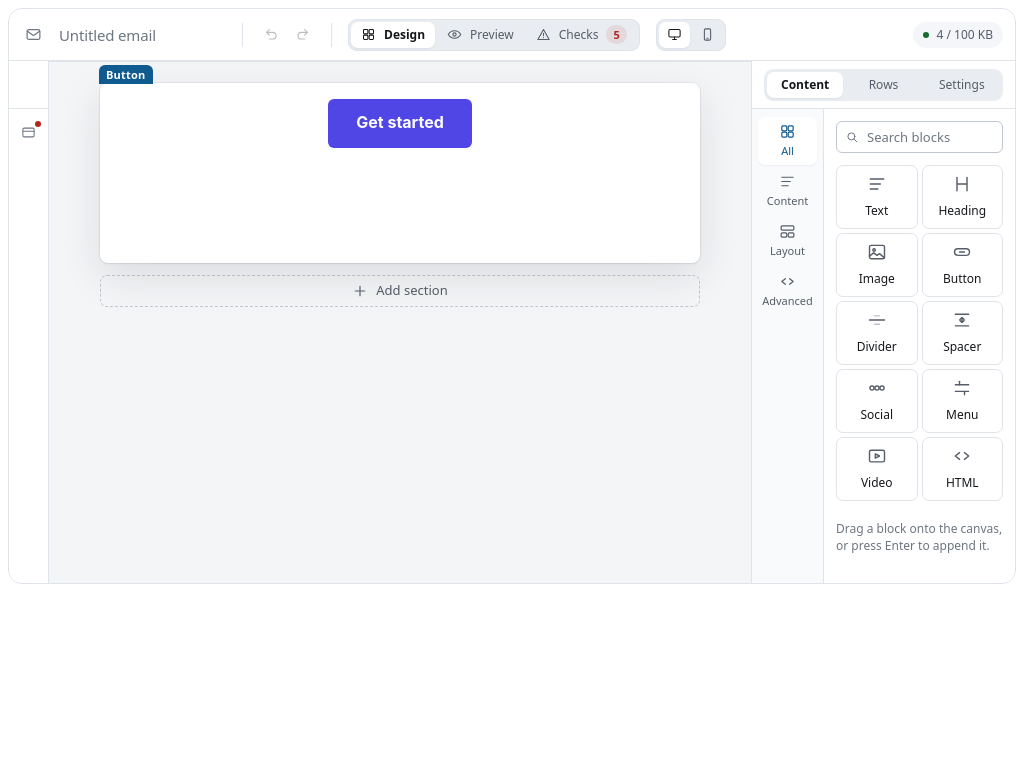
Scenario: the checks view › takes you to the block an issue is about
Click the tab "Checks 5" at (581, 34), box [526,22,637,48]
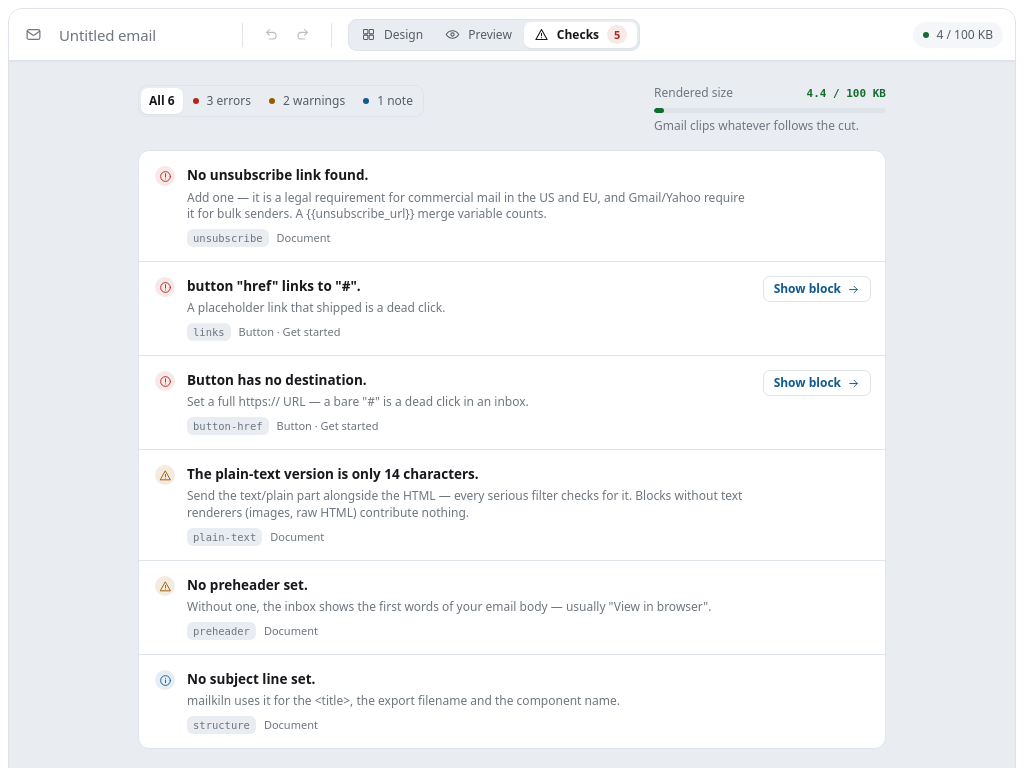
Click the text "Button has no destination." at (277, 380), box [187,371,367,389]
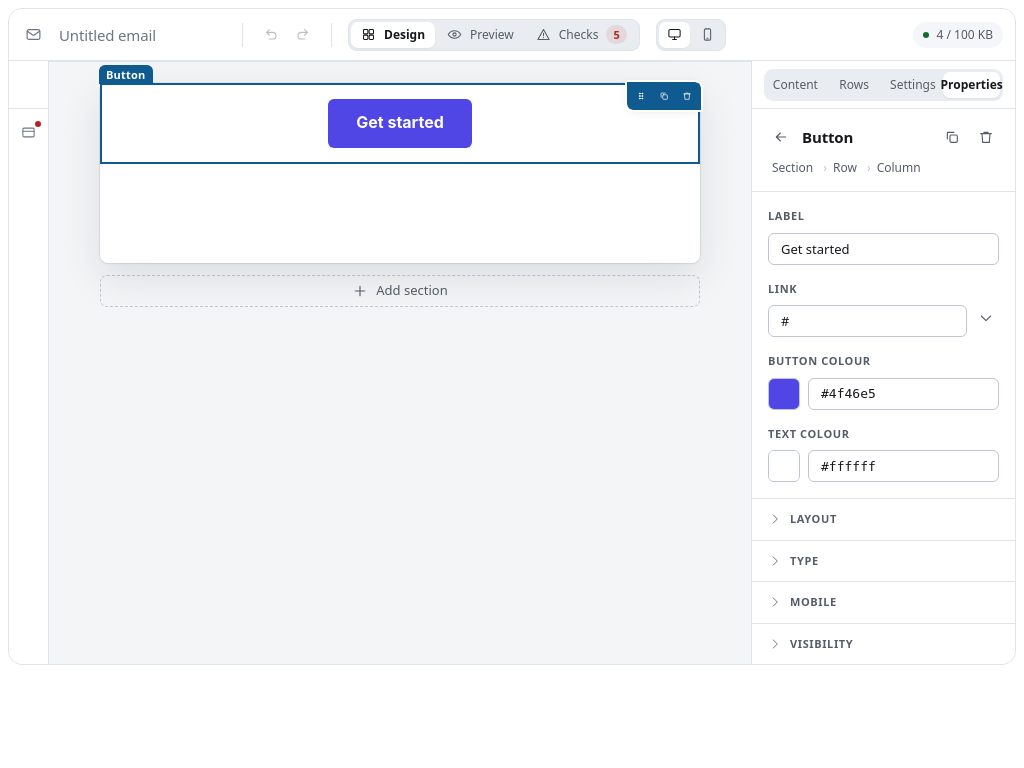
Check: the tab "Properties" is shown, box [943,72,1000,98]
